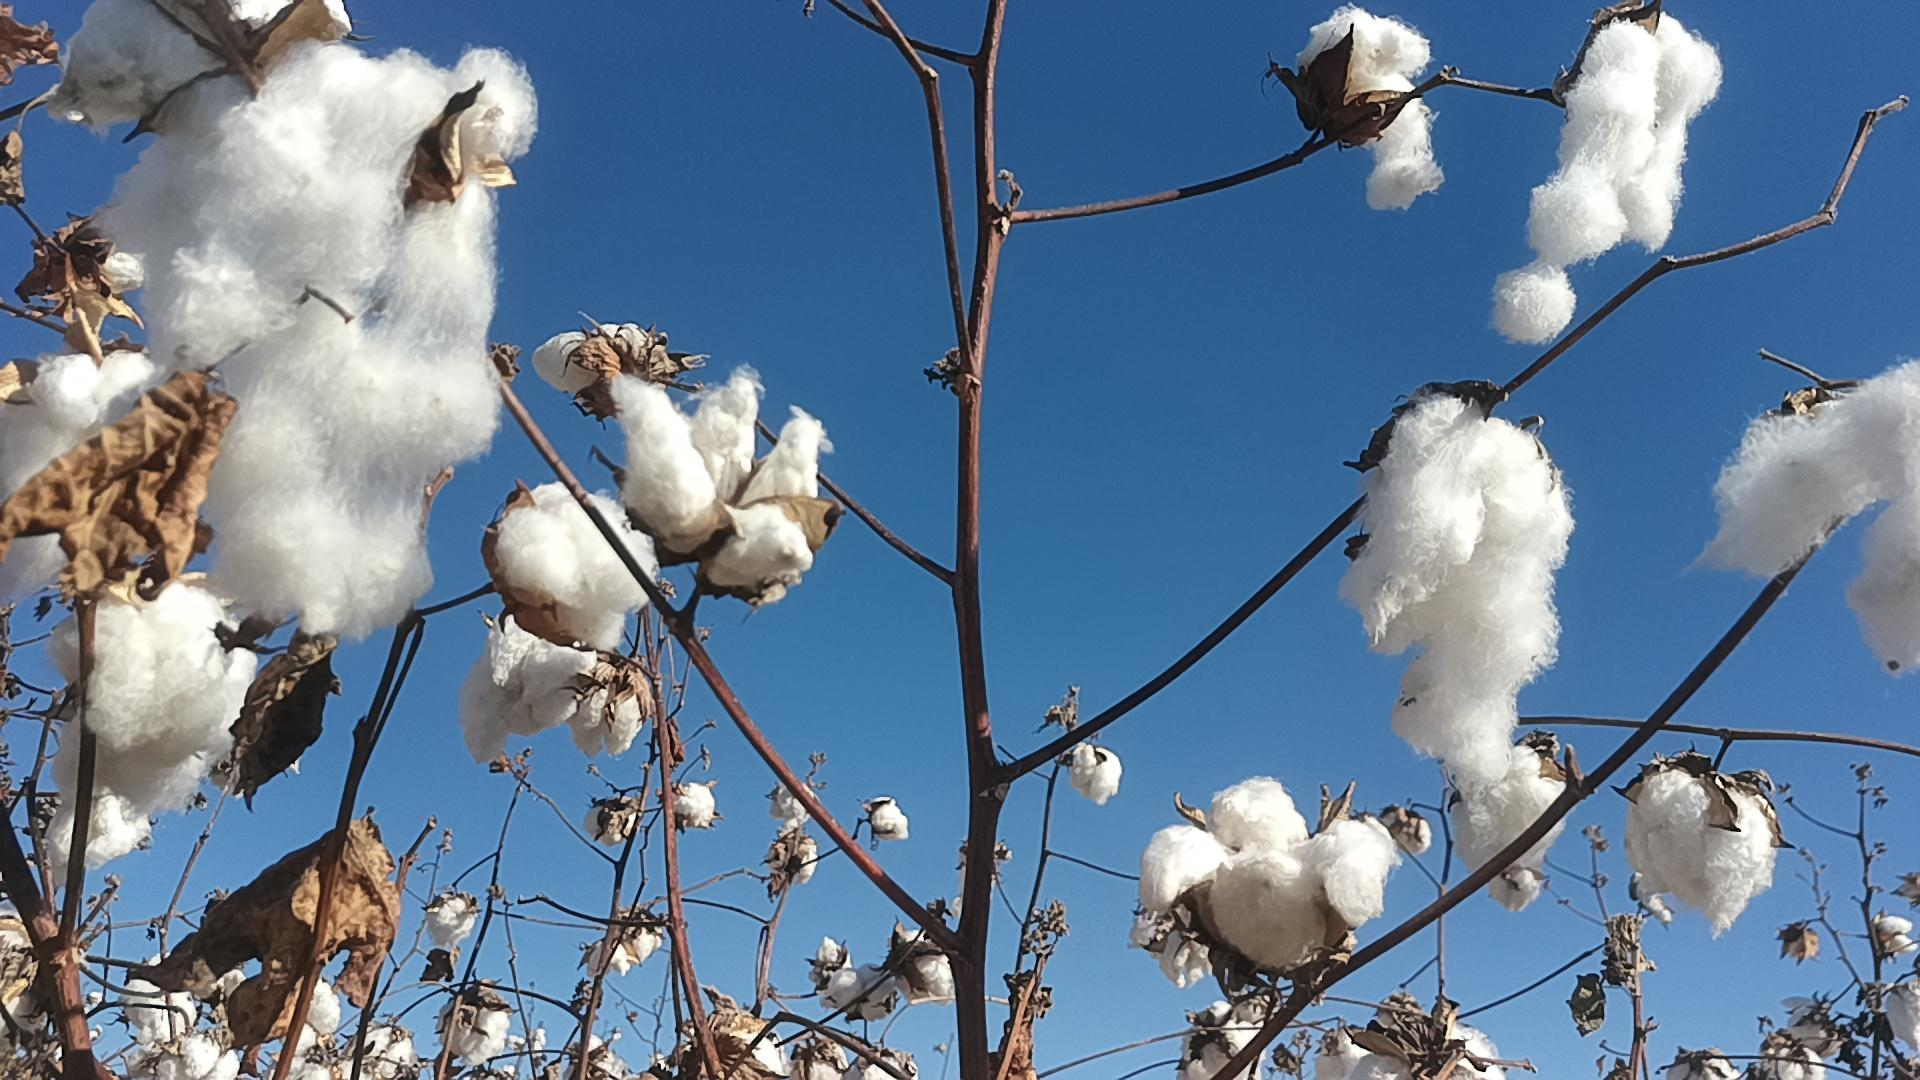cotton_ready: (94, 46, 538, 640), (1341, 393, 1569, 777), (1490, 9, 1724, 340), (1698, 363, 1920, 666), (50, 584, 251, 866), (1135, 775, 1398, 969), (608, 371, 828, 596), (0, 343, 150, 591), (63, 0, 348, 128), (1296, 0, 1448, 214), (498, 483, 659, 657), (1623, 767, 1775, 932), (463, 621, 601, 766), (1445, 753, 1565, 905), (1316, 1026, 1503, 1080), (530, 323, 654, 400), (572, 675, 638, 766)
